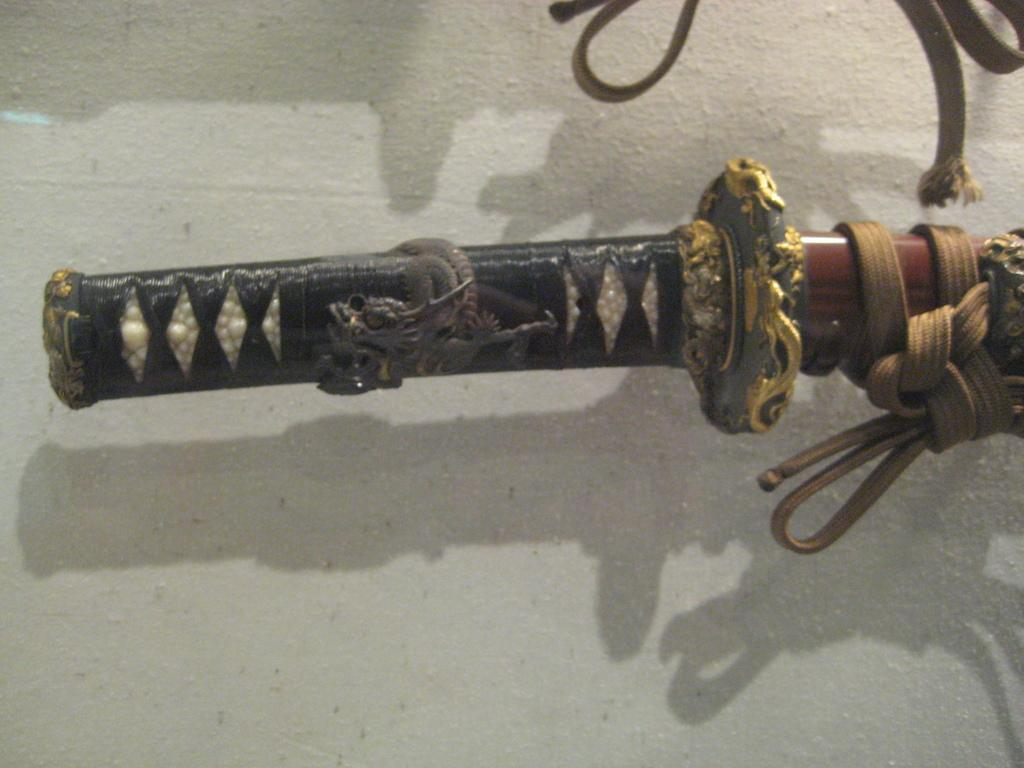Sword: (38, 157, 1023, 538)
